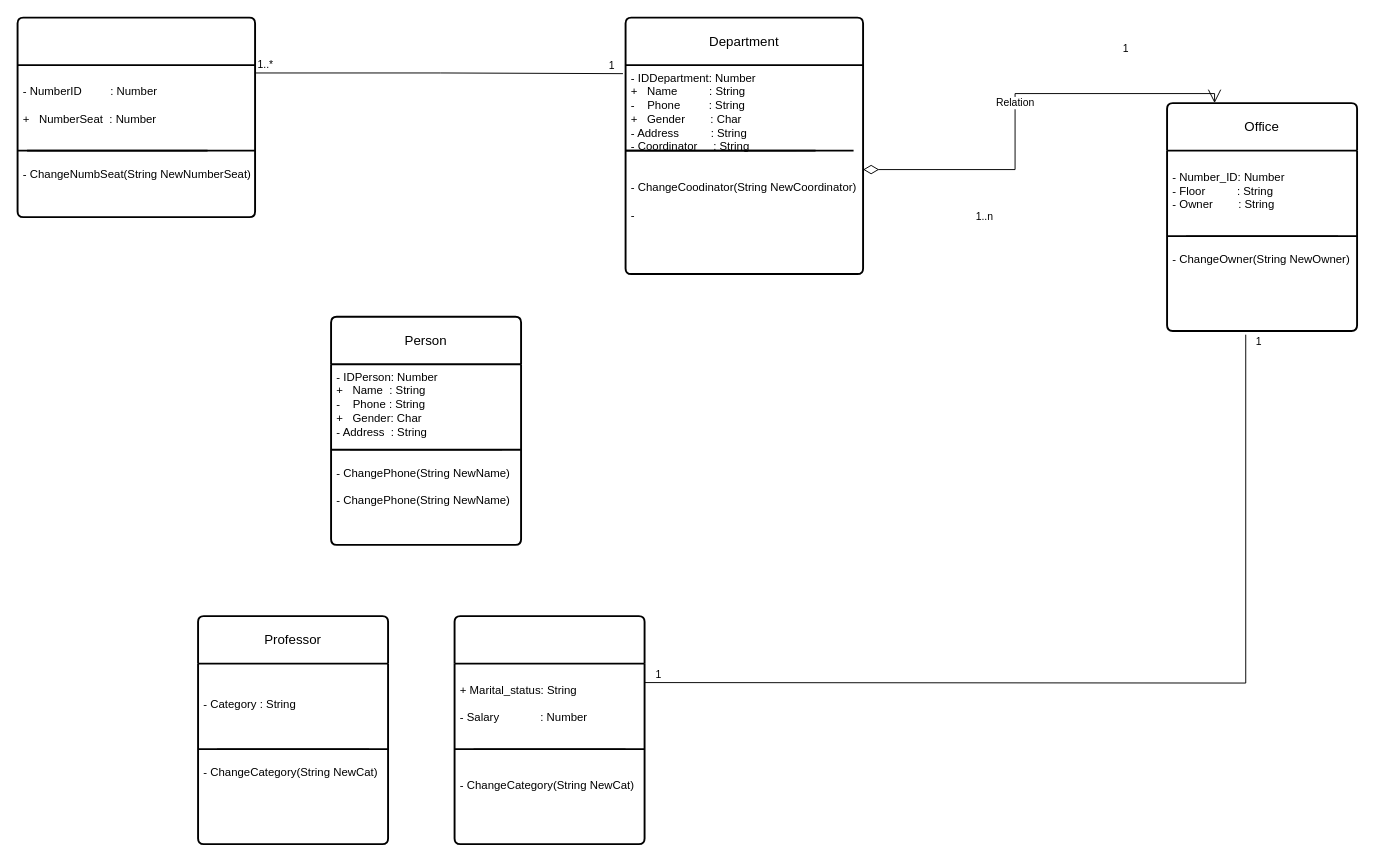
Image size: 1375x861. Some labels were removed from this diagram. The shapes that lost their labels are listed below. From the top down, each one's box as (x1, y1, x2, y2) in pixels, then its label:
(16, 16, 256, 218): Subject
(453, 615, 645, 845): Employee
